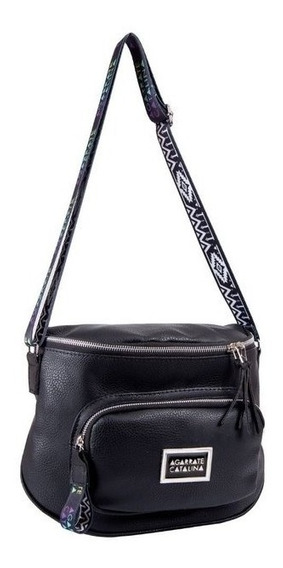cartera: (17, 30, 267, 540)
